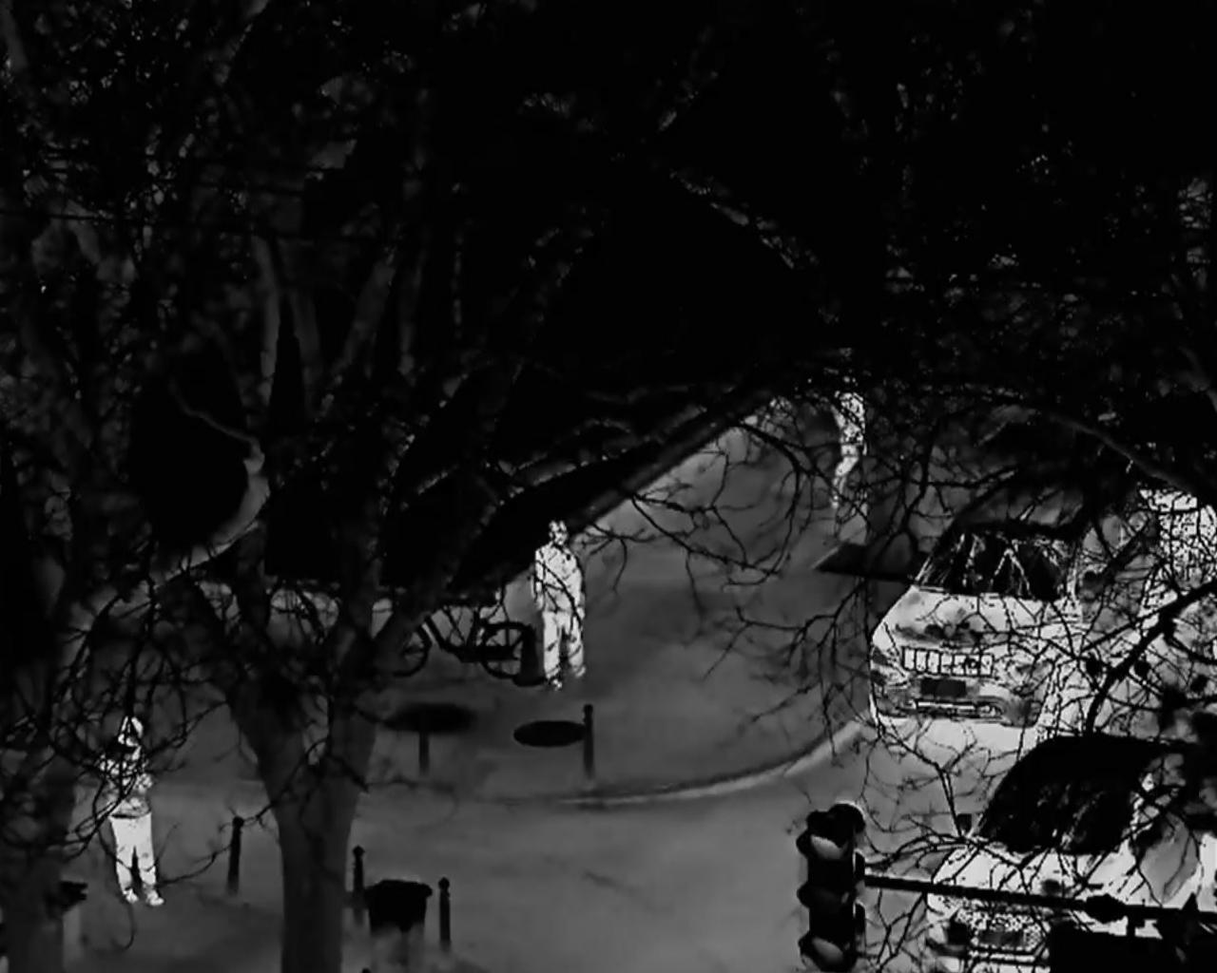person: (94, 717, 162, 908), (529, 519, 587, 691), (825, 380, 867, 517)
